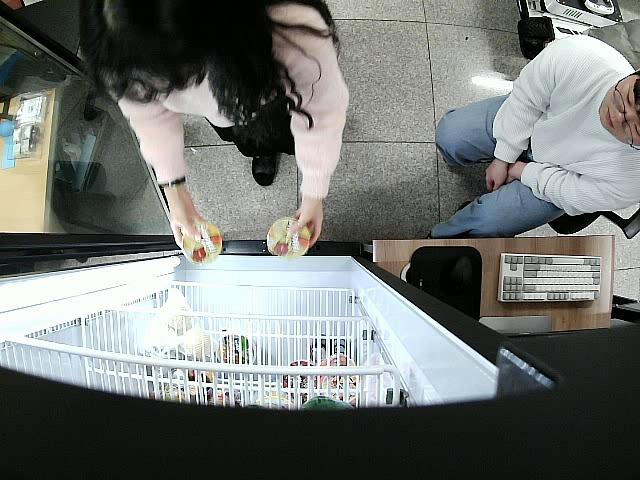00_hand: (169, 201, 204, 246), (285, 207, 324, 247)
04_chapagetti_S: (266, 218, 309, 261), (181, 221, 222, 265)
